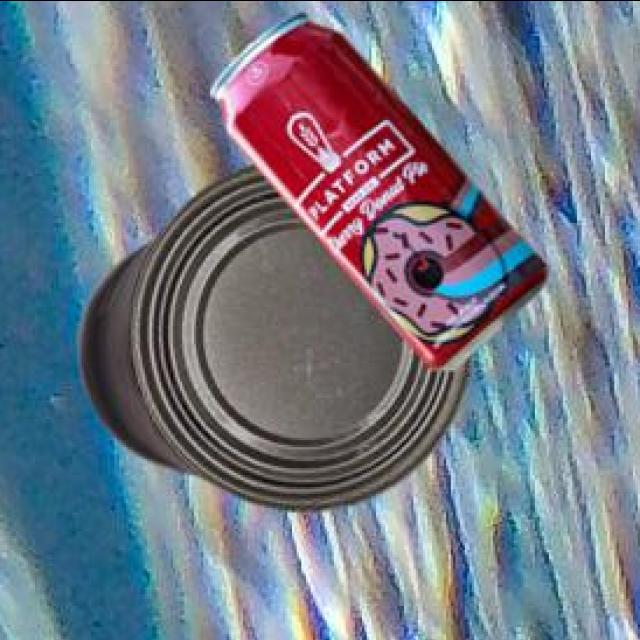logam: (74, 167, 468, 515), (207, 15, 543, 373)
